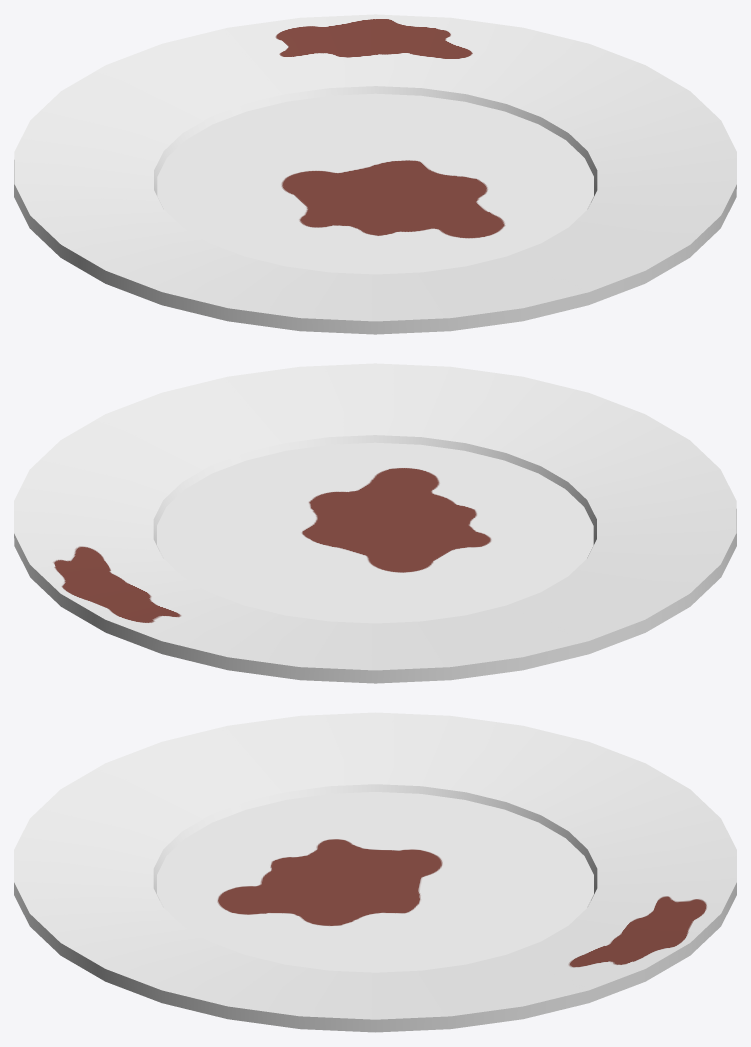
File: PlateDirty.FBX
3 renders of one model, top to bottom at view 1: azimuth 30°, elevation 25°; view 2: azimuth 150°, elevation 25°; view 3: azimuth 270°, elevation 25°, orthographic.
Parts seen in each view (by area): view 1: Plate_dirty; view 2: Plate_dirty; view 3: Plate_dirty.
Boxes of the visible parts, x1=… form: Plate_dirty: x1=14, y1=14, x2=736, y2=334; Plate_dirty: x1=14, y1=363, x2=736, y2=683; Plate_dirty: x1=14, y1=712, x2=736, y2=1032.
Bounding box in the file's own units: 26.73 × 1.77 × 26.57.
